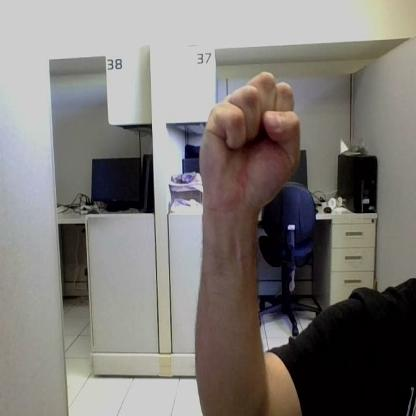S: (200, 72, 300, 212)
